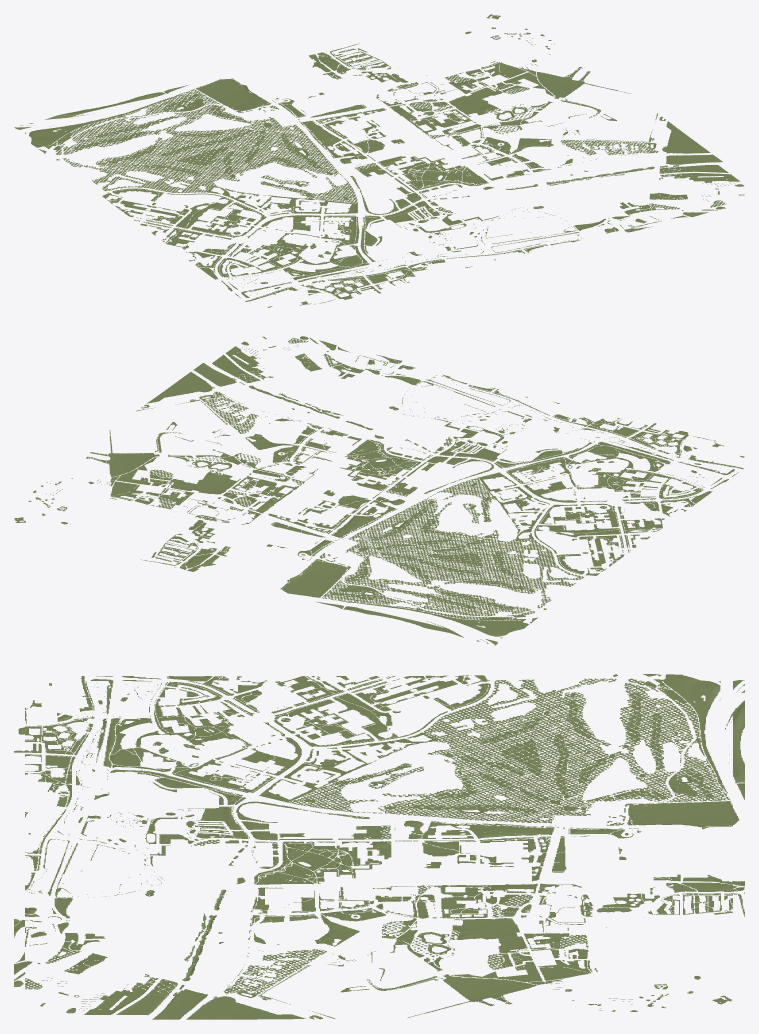
The model's file is campus_markvegetation.glb.
3 renders of one model, top to bottom at view 1: azimuth 30°, elevation 25°; view 2: azimuth 150°, elevation 25°; view 3: azimuth 270°, elevation 25°, orthographic. The views are drawn at different scales.
Visible parts, largest first — view 1: Markvegetation_1_2, Markvegetation_2_2, Markvegetation_3_2, Markvegetation_1_1, Markvegetation_2_0, Markvegetation_4_4, Markvegetation_5_2, Markvegetation_2_1, Markvegetation_0_0, Markvegetation_1_6, Markvegetation_7_5, Markvegetation_1_0 (+30 smaller); view 2: Markvegetation_1_2, Markvegetation_2_2, Markvegetation_3_2, Markvegetation_2_0, Markvegetation_1_1, Markvegetation_0_0, Markvegetation_4_4, Markvegetation_2_1, Markvegetation_5_2, Markvegetation_1_0, Markvegetation_1_6, Markvegetation_7_5 (+30 smaller); view 3: Markvegetation_1_2, Markvegetation_2_2, Markvegetation_3_2, Markvegetation_2_0, Markvegetation_1_1, Markvegetation_4_4, Markvegetation_5_2, Markvegetation_0_0, Markvegetation_2_1, Markvegetation_7_5, Markvegetation_1_6, Markvegetation_1_0 (+35 smaller).
Part boxes in pixels (x1=…): Markvegetation_1_2: x1=143, y1=151, x2=235, y2=191; Markvegetation_2_2: x1=204, y1=135, x2=299, y2=174; Markvegetation_3_2: x1=265, y1=119, x2=362, y2=161; Markvegetation_1_1: x1=107, y1=126, x2=203, y2=164; Markvegetation_2_0: x1=133, y1=86, x2=225, y2=120; Markvegetation_4_4: x1=402, y1=162, x2=488, y2=196; Markvegetation_5_2: x1=389, y1=91, x2=482, y2=131; Markvegetation_2_1: x1=173, y1=110, x2=264, y2=150; Markvegetation_0_0: x1=14, y1=113, x2=105, y2=152; Markvegetation_1_6: x1=284, y1=256, x2=381, y2=293; Markvegetation_7_5: x1=619, y1=139, x2=714, y2=178; Markvegetation_1_0: x1=72, y1=99, x2=164, y2=138; Markvegetation_1_2: x1=448, y1=535, x2=545, y2=576; Markvegetation_2_2: x1=385, y1=520, x2=481, y2=561; Markvegetation_3_2: x1=321, y1=504, x2=419, y2=546; Markvegetation_2_0: x1=316, y1=574, x2=406, y2=615; Markvegetation_1_1: x1=415, y1=562, x2=509, y2=603; Markvegetation_0_0: x1=438, y1=603, x2=535, y2=645; Markvegetation_4_4: x1=345, y1=439, x2=426, y2=476; Markvegetation_2_1: x1=353, y1=547, x2=446, y2=585; Markvegetation_5_2: x1=195, y1=475, x2=293, y2=515; Markvegetation_1_0: x1=375, y1=591, x2=473, y2=629; Markvegetation_1_6: x1=595, y1=429, x2=688, y2=470; Markvegetation_7_5: x1=177, y1=364, x2=271, y2=405; Markvegetation_1_2: x1=446, y1=717, x2=545, y2=760; Markvegetation_2_2: x1=446, y1=759, x2=545, y2=802; Markvegetation_3_2: x1=446, y1=802, x2=545, y2=844; Markvegetation_2_0: x1=645, y1=759, x2=744, y2=803; Markvegetation_1_1: x1=544, y1=716, x2=644, y2=760; Markvegetation_4_4: x1=251, y1=844, x2=346, y2=884; Markvegetation_5_2: x1=446, y1=885, x2=545, y2=928; Markvegetation_0_0: x1=645, y1=674, x2=744, y2=717; Markvegetation_2_1: x1=544, y1=759, x2=644, y2=801; Markvegetation_7_5: x1=147, y1=971, x2=247, y2=1013; Markvegetation_1_6: x1=49, y1=718, x2=148, y2=761; Markvegetation_1_0: x1=645, y1=717, x2=744, y2=760.
Bounding box in the file's own units: 2040 × 22.04 × 1840.
